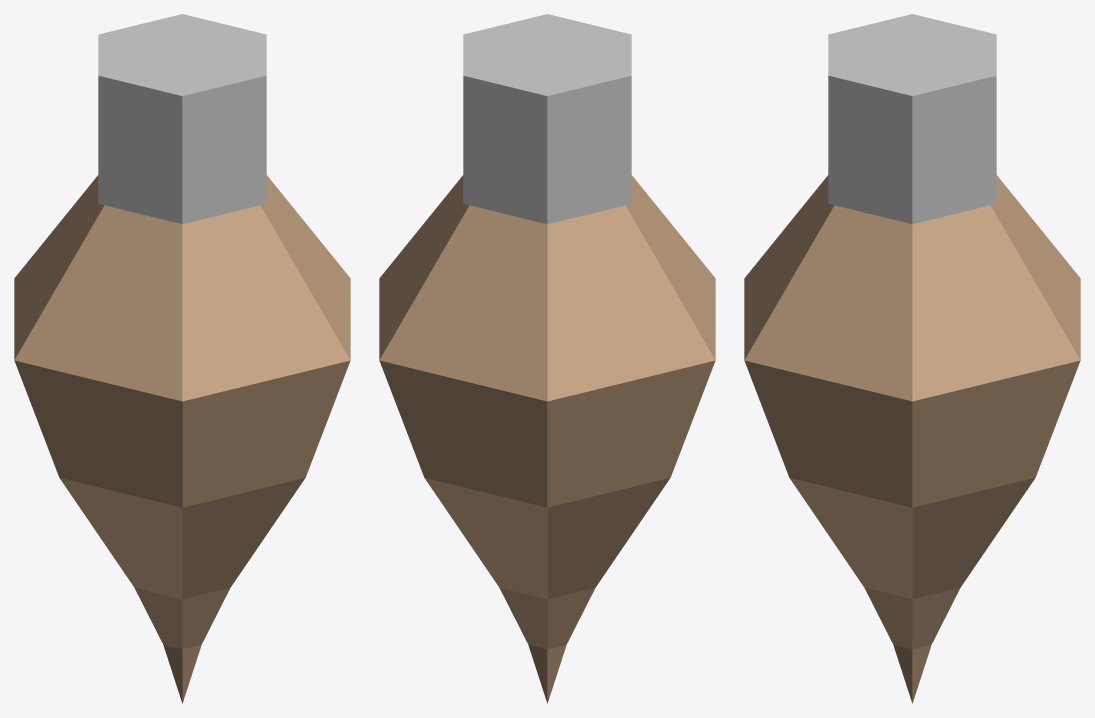
Rendered from Brush.fbx.
3 renders of one model, left to right at view 1: azimuth 30°, elevation 25°; view 2: azimuth 150°, elevation 25°; view 3: azimuth 270°, elevation 25°, orthographic.
Parts seen in each view (by area): view 1: Group1; view 2: Group1; view 3: Group1.
Part boxes in pixels (x1=…): Group1: x1=14, y1=14, x2=350, y2=703; Group1: x1=379, y1=14, x2=715, y2=703; Group1: x1=744, y1=14, x2=1080, y2=703.
Bounding box in the file's own units: 0.7951 × 1.47 × 0.6886.
